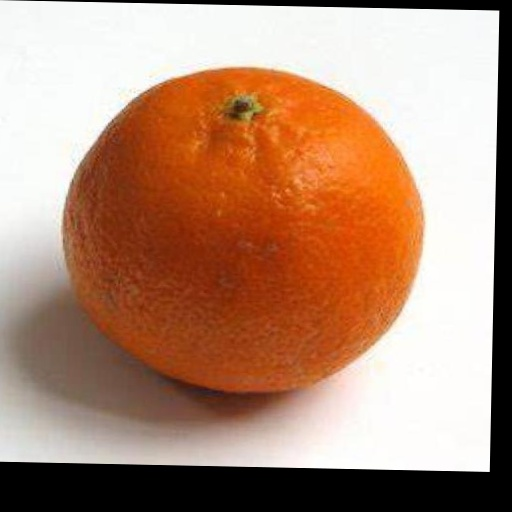fruit: (64, 69, 422, 391)
